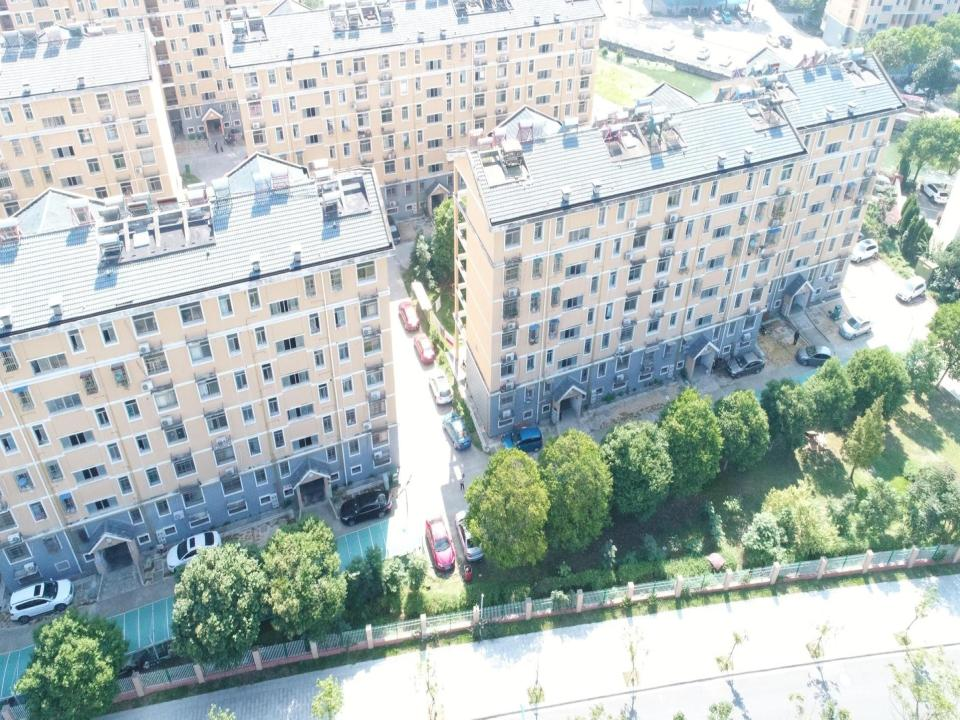car: (9, 576, 74, 624), (164, 530, 228, 572), (425, 515, 458, 576), (339, 488, 392, 524), (456, 505, 485, 560), (498, 426, 547, 456), (726, 344, 764, 379), (444, 414, 471, 452), (851, 237, 884, 265), (892, 276, 927, 301), (397, 297, 422, 332), (414, 331, 437, 368), (838, 316, 872, 340), (428, 372, 453, 404), (920, 181, 948, 205), (384, 213, 401, 244), (905, 81, 935, 91), (779, 30, 792, 51), (719, 51, 732, 69), (848, 228, 864, 241), (696, 45, 708, 62), (662, 40, 676, 52), (766, 33, 778, 46), (738, 12, 750, 24), (712, 9, 722, 23), (724, 9, 732, 26)
van: (874, 174, 892, 195)
